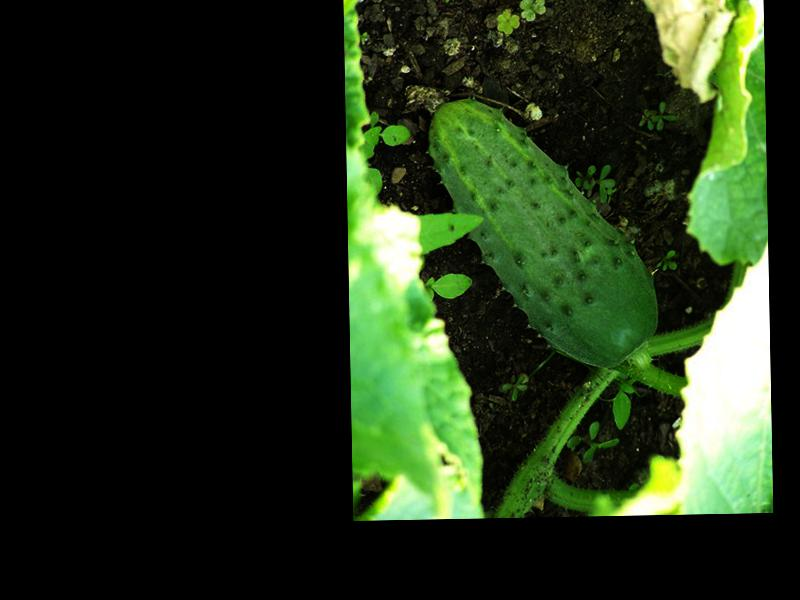Cucumber: (427, 95, 660, 373)
